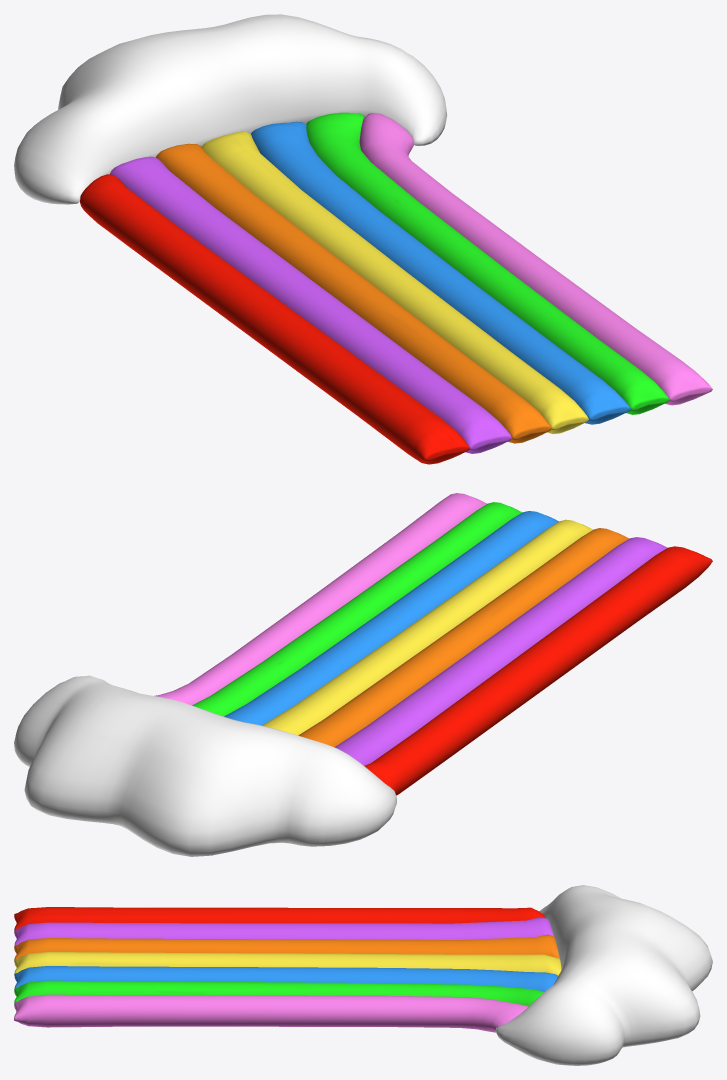
File: PoolFloat3.fbx
The picture shows the model from 3 angles, top to bottom: view 1: azimuth 30°, elevation 25°; view 2: azimuth 150°, elevation 25°; view 3: azimuth 270°, elevation 25°; orthographic projection. The views are drawn at different scales.
Visible parts, largest first — view 1: Cube; view 2: Cube; view 3: Cube.
Part boxes in pixels (x1,y1,x2,y2): Cube: (14, 14, 712, 464); Cube: (14, 493, 712, 856); Cube: (14, 885, 712, 1065).
Bounding box in the file's own units: 440 × 111 × 889.
